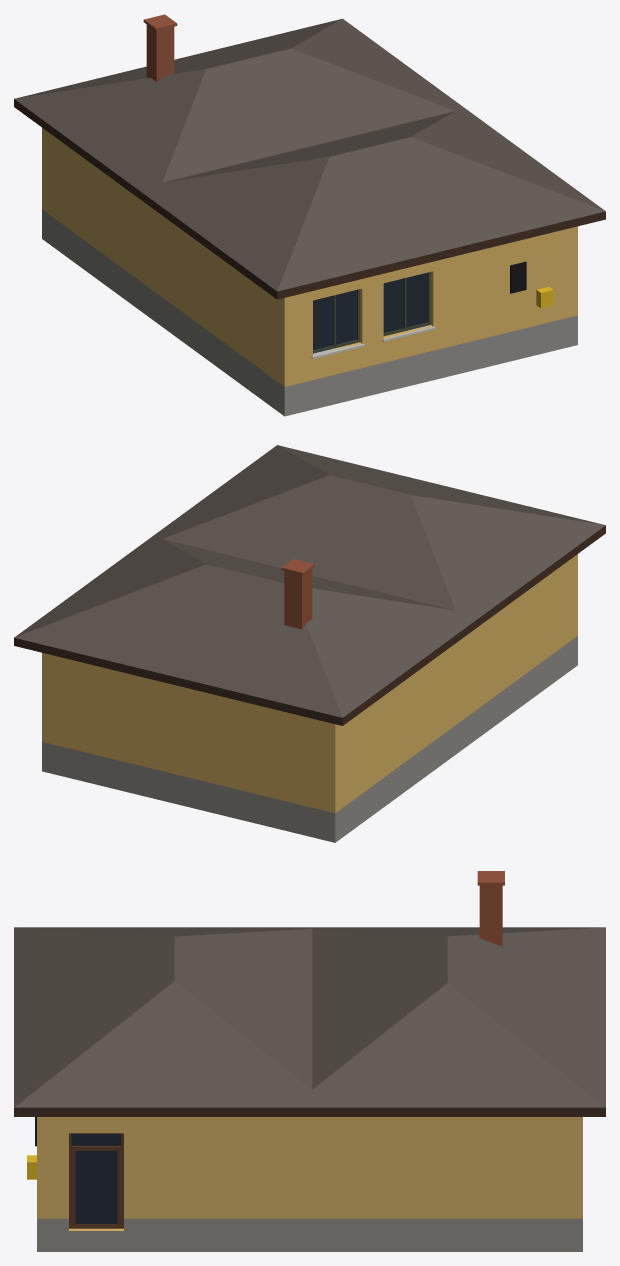
File: posta.glb
The picture shows the model from 3 angles, top to bottom: view 1: azimuth 30°, elevation 25°; view 2: azimuth 150°, elevation 25°; view 3: azimuth 270°, elevation 25°; orthographic projection. The views are drawn at different scales.
Visible parts, largest first — view 1: Posta; view 2: Posta; view 3: Posta.
Boxes of the visible parts, left/top/right/bottom form: Posta: left=14, top=14, right=605, bottom=416; Posta: left=14, top=445, right=605, bottom=842; Posta: left=14, top=871, right=605, bottom=1251.
Size of the model in its own units: 9.3 by 6.17 by 12.9.
